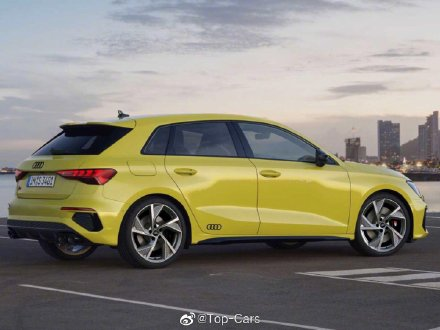other: (10, 107, 433, 258)
